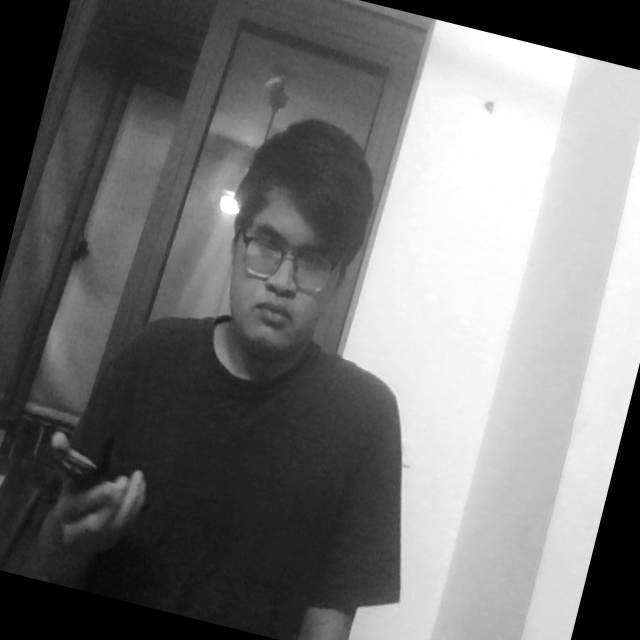phone: (20, 420, 153, 546)
